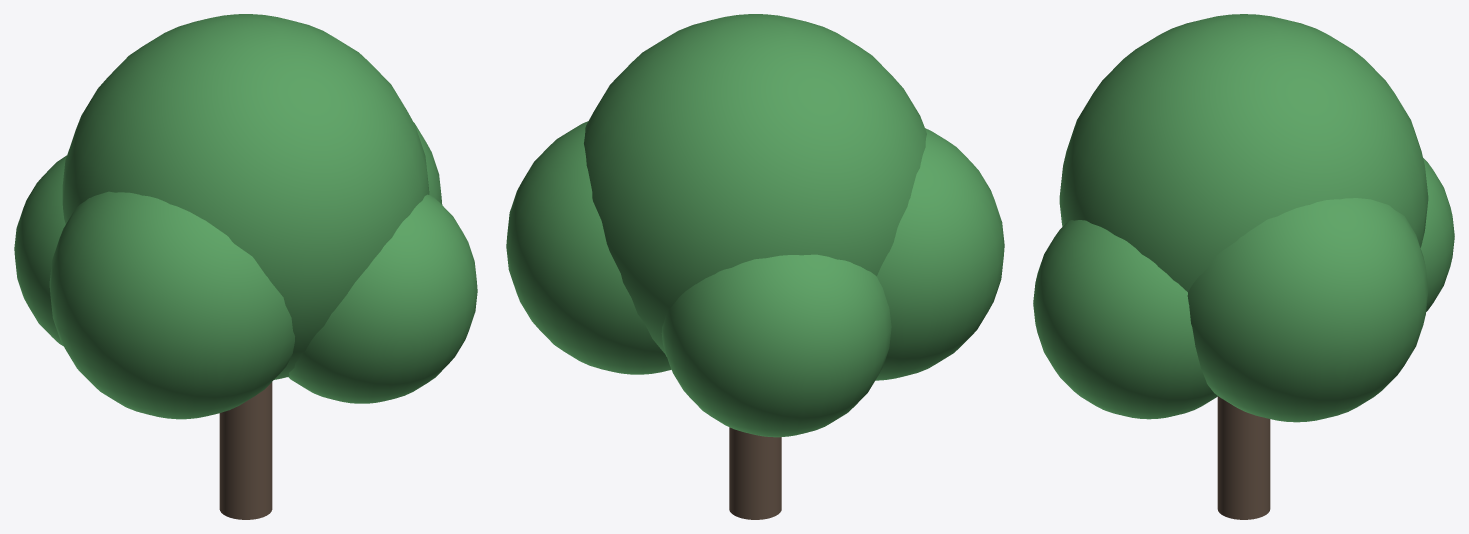
The model's file is Broadleaf_Tree.fbx.
3 views of the same model, side by side, from view 1: azimuth 30°, elevation 25°; view 2: azimuth 150°, elevation 25°; view 3: azimuth 270°, elevation 25° (orthographic).
Parts seen in each view (by area): view 1: Canopy_Lobe_1, Canopy_Lobe_3, Canopy_Lobe_4, Broadleaf_Trunk, Canopy_Lobe_5, Canopy_Lobe_2; view 2: Canopy_Lobe_1, Canopy_Lobe_5, Canopy_Lobe_2, Canopy_Lobe_3, Broadleaf_Trunk; view 3: Canopy_Lobe_1, Canopy_Lobe_2, Canopy_Lobe_4, Broadleaf_Trunk, Canopy_Lobe_5.
Part boxes in pixels (<box>): Canopy_Lobe_1: <box>62,14,429,379</box>; Canopy_Lobe_3: <box>49,191,294,419</box>; Canopy_Lobe_4: <box>288,194,477,403</box>; Broadleaf_Trunk: <box>219,382,272,519</box>; Canopy_Lobe_5: <box>14,155,66,346</box>; Canopy_Lobe_2: <box>414,123,442,204</box>; Canopy_Lobe_1: <box>584,14,926,356</box>; Canopy_Lobe_5: <box>661,254,891,437</box>; Canopy_Lobe_2: <box>506,121,671,374</box>; Canopy_Lobe_3: <box>875,128,1004,380</box>; Broadleaf_Trunk: <box>729,427,781,519</box>; Canopy_Lobe_1: <box>1059,14,1428,291</box>; Canopy_Lobe_2: <box>1187,198,1428,422</box>; Canopy_Lobe_4: <box>1033,220,1217,419</box>; Broadleaf_Trunk: <box>1217,396,1270,519</box>; Canopy_Lobe_5: <box>1420,158,1454,311</box>.
Bounding box in the file's own units: 9 × 8 × 10.
